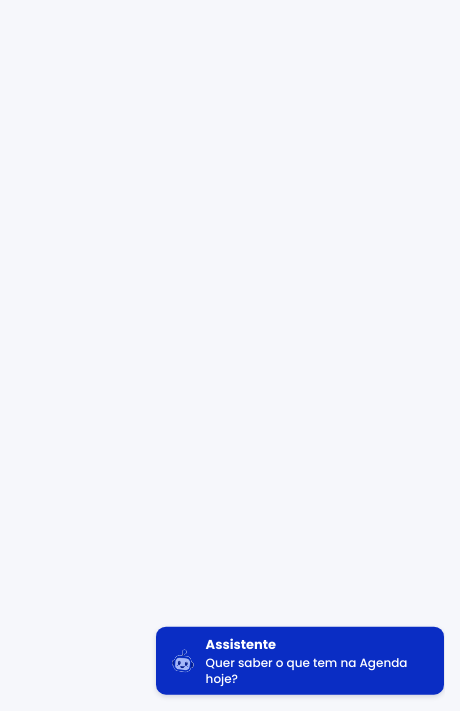
Test: contrato do chat integrado › alterna os convites enquanto fechado e abre o chat sem enviar mensagem
The image size is (460, 711).
Later steps or results of the test are not shown.
What coordinates should you click on to do the following:
click the text "Quer saber o que tem na Agenda hoje?"
I would click on:
 (318, 671)
Its box is [206,655,431,687].
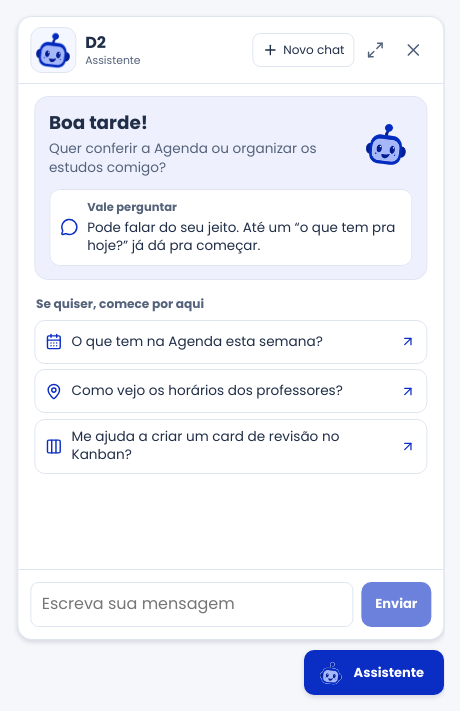
Expected: the text box labelled "sua mensagem" is shown, [30,582,354,627]
Expected: the text "Quer saber o que tem na Agenda hoje?" is gone
